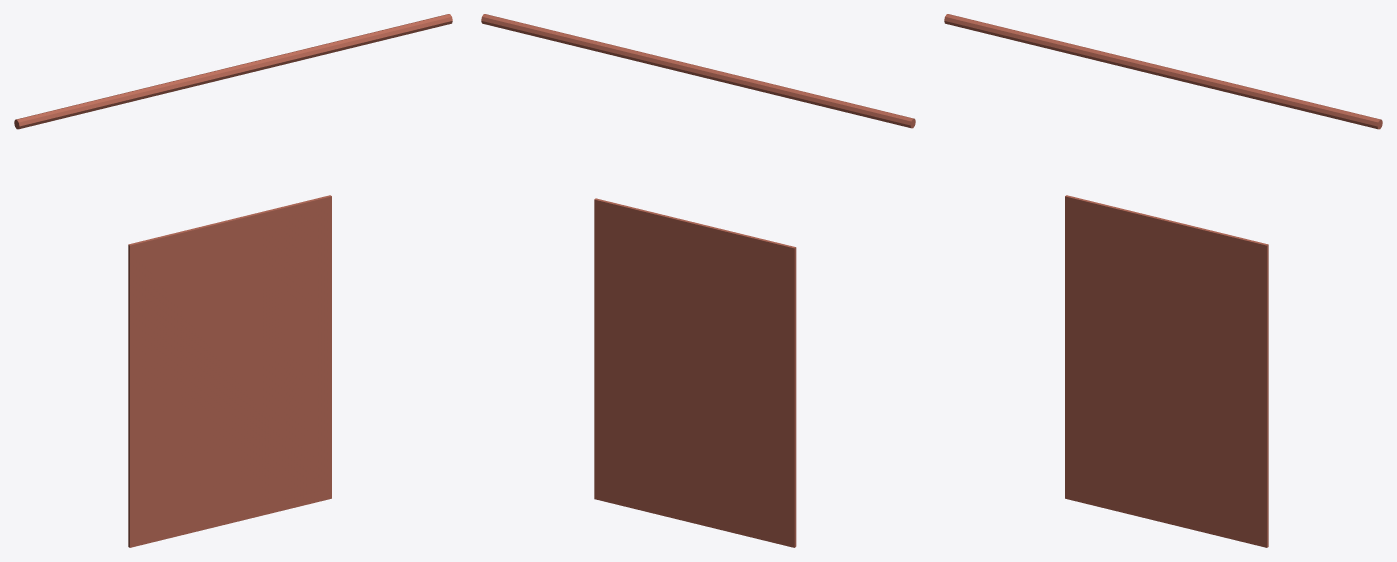
File: tapestry.glb
3 renders of one model, left to right at view 1: azimuth 30°, elevation 25°; view 2: azimuth 150°, elevation 25°; view 3: azimuth 330°, elevation 25°, orthographic.
Parts seen in each view (by area): view 1: tapestry; view 2: tapestry; view 3: tapestry.
Boxes of the visible parts, <box> form: tapestry: <box>14,14,452,547</box>; tapestry: <box>481,14,915,547</box>; tapestry: <box>944,14,1382,547</box>.
Bounding box in the file's own units: 0.75 × 0.758 × 0.0205.
